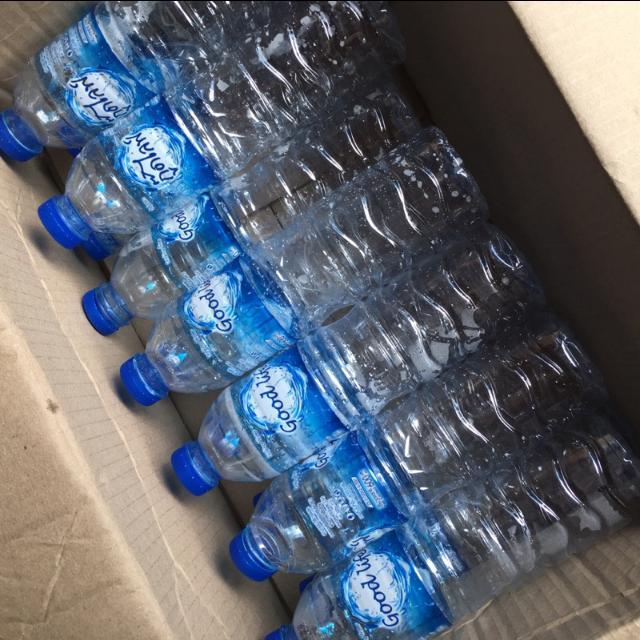PET Bottle: (122, 209, 565, 536), (211, 292, 617, 609), (99, 118, 490, 421), (27, 0, 420, 269), (70, 66, 429, 333), (280, 403, 639, 639), (1, 0, 305, 176)
